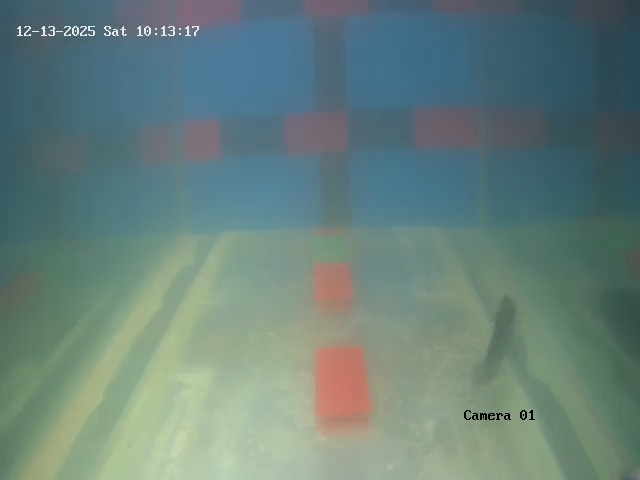fish: (476, 292, 524, 396)
